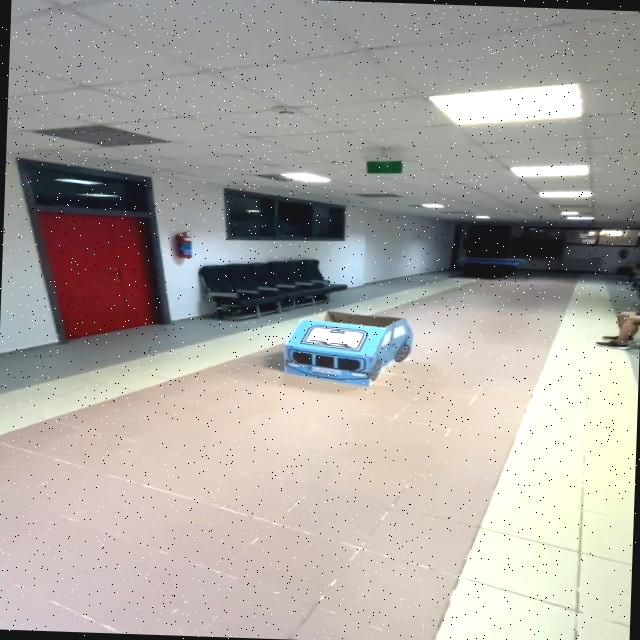blue_car: (252, 293, 435, 407)
